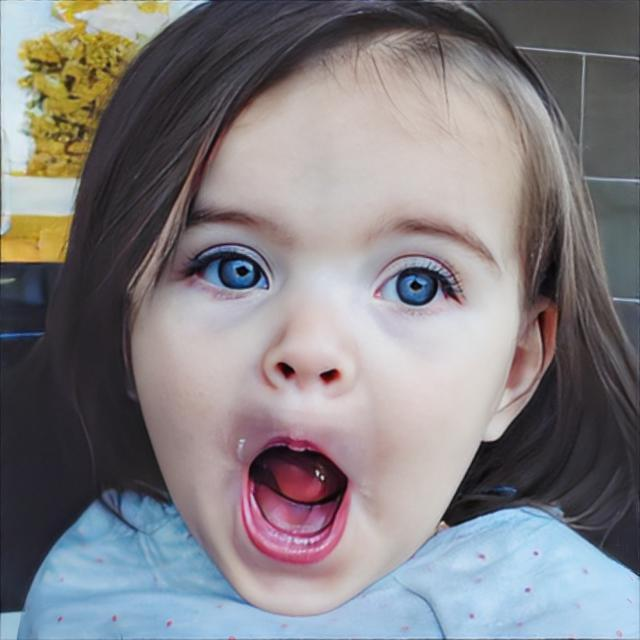surprise: (125, 33, 525, 616)
